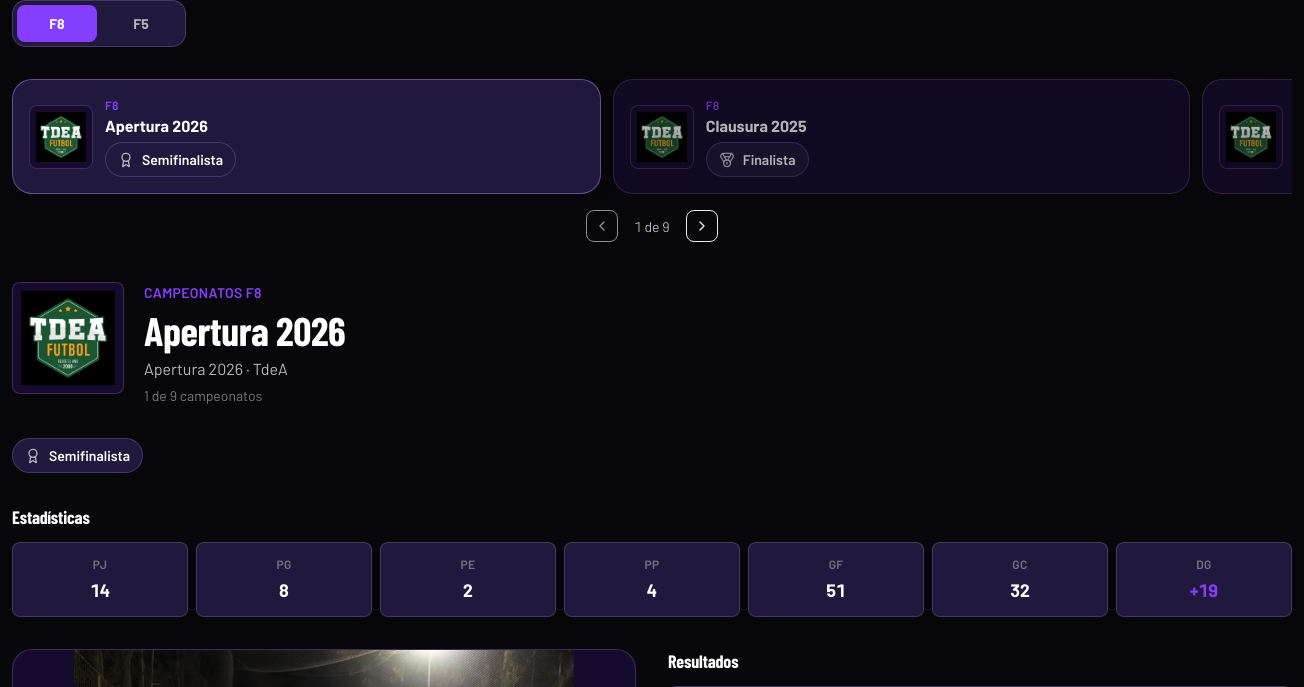
Test case: ChampionshipsSection › switches to F5 and shows only F5 championships
Expected: the text "Campeonatos F8" is shown, [144,282,345,303]
Step 1. Click the tab "F5" → (141, 24), box [101,5,181,42]
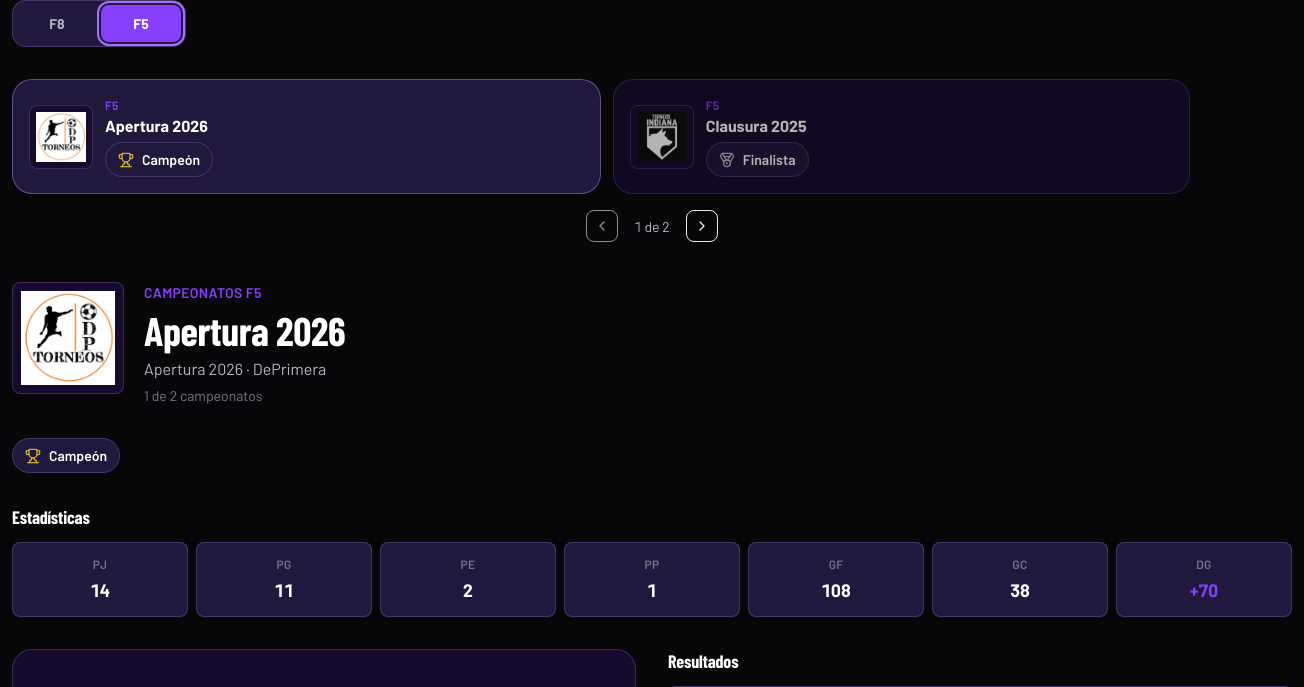
Result: the text "Campeonatos F5" is shown at [144,282,345,303]
